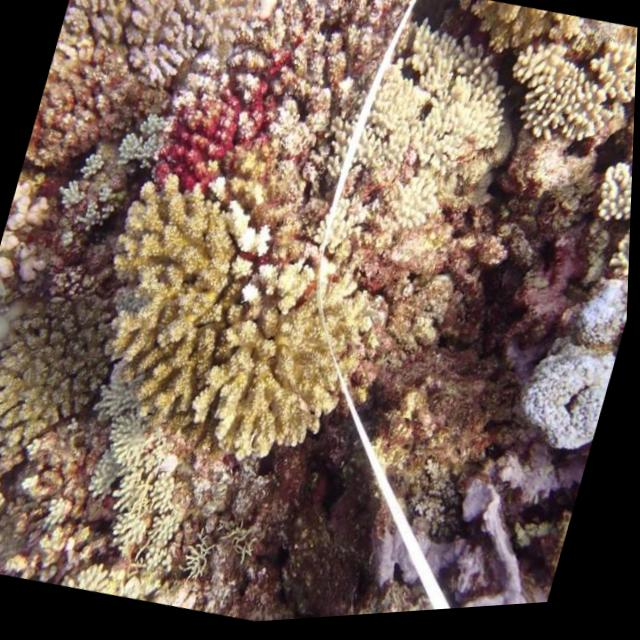Bleached Coral: (340, 20, 545, 240), (53, 354, 233, 586), (47, 0, 316, 130), (497, 29, 638, 170), (188, 168, 315, 321), (37, 133, 147, 260), (86, 97, 198, 197), (576, 169, 634, 279), (0, 435, 27, 572)
Healthy Coral: (176, 103, 247, 196)
